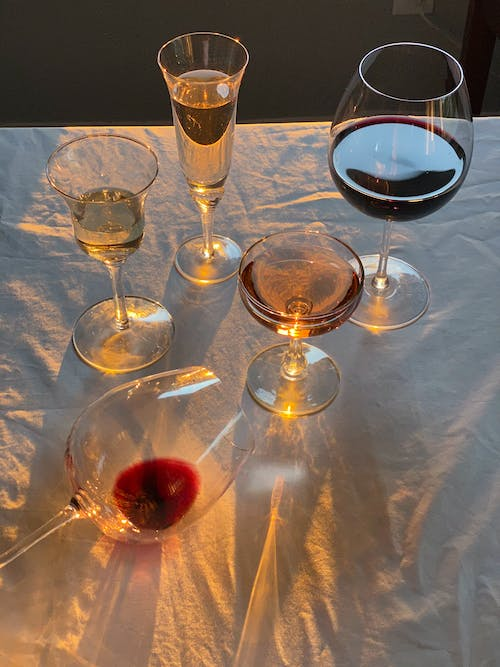alcohol: (0, 364, 256, 570), (326, 41, 476, 331), (45, 132, 177, 375), (235, 227, 366, 419), (155, 30, 251, 287)
